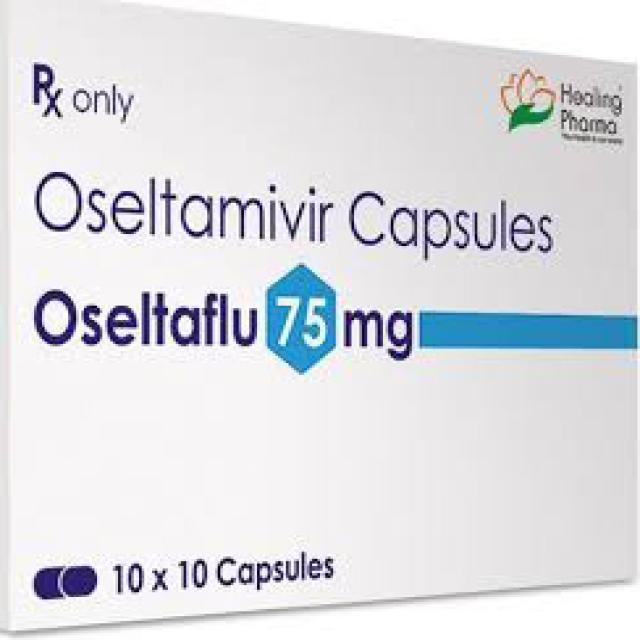drug-name: (29, 287, 338, 354)
